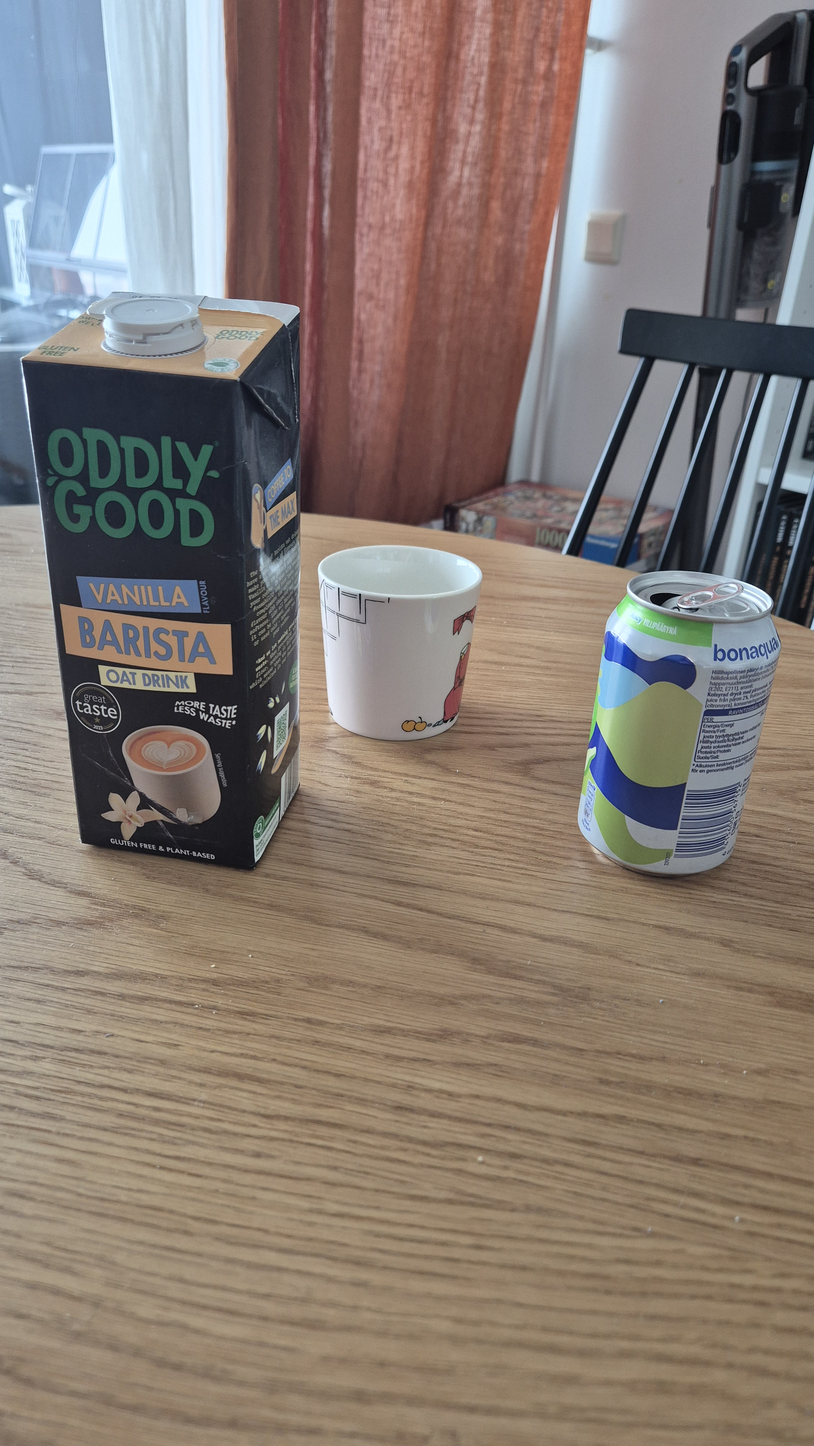Dryckeskartong: (18, 292, 302, 871)
Pantburk: (578, 571, 781, 877)
